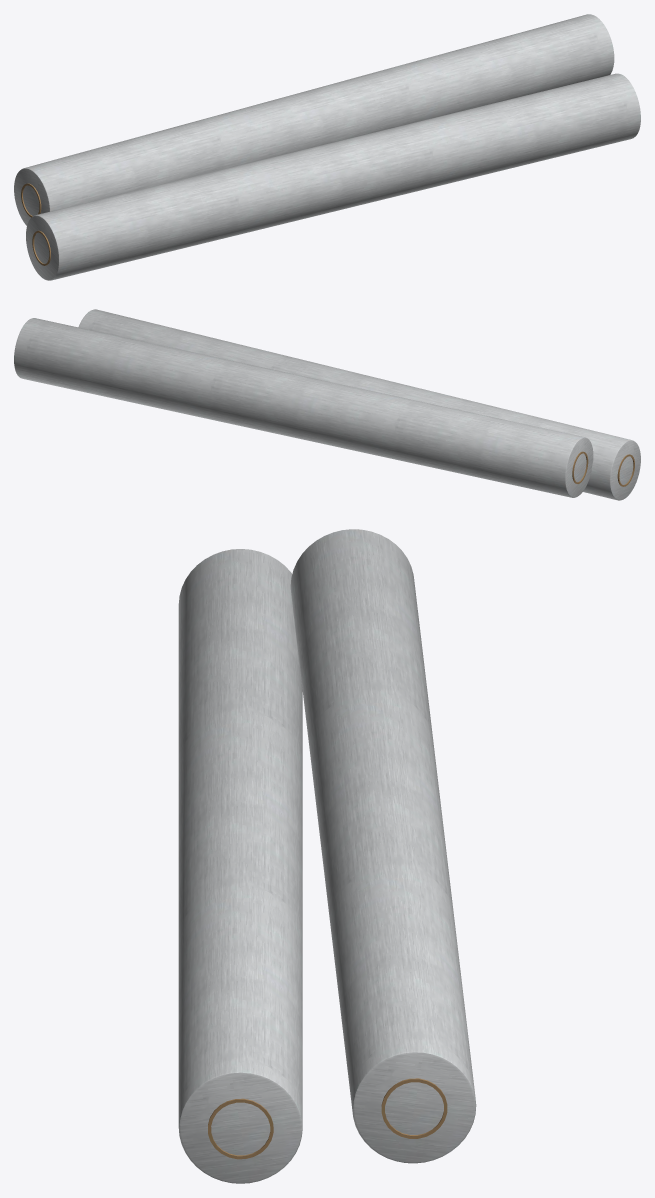
The model's file is COB-ACS-001_anim.glb.
The picture shows the model from 3 angles, top to bottom: view 1: azimuth 30°, elevation 25°; view 2: azimuth 150°, elevation 25°; view 3: azimuth 270°, elevation 25°; orthographic projection. The views are drawn at different scales.
Parts seen in each view (by area): view 1: COB-ACS-001_anim0, COB-ACS-001_anim1; view 2: COB-ACS-001_anim1, COB-ACS-001_anim0; view 3: COB-ACS-001_anim1, COB-ACS-001_anim0.
Boxes of the visible parts, x1=… form: COB-ACS-001_anim0: x1=26, y1=73, x2=640, y2=280; COB-ACS-001_anim1: x1=14, y1=14, x2=614, y2=225; COB-ACS-001_anim1: x1=14, y1=318, x2=593, y2=497; COB-ACS-001_anim0: x1=78, y1=309, x2=640, y2=500; COB-ACS-001_anim1: x1=290, y1=529, x2=476, y2=1163; COB-ACS-001_anim0: x1=178, y1=549, x2=302, y2=1183.
Size of the model in its own units: 1.56 by 0.2 by 0.3597.
Materials: 2 (2 with a texture image).
